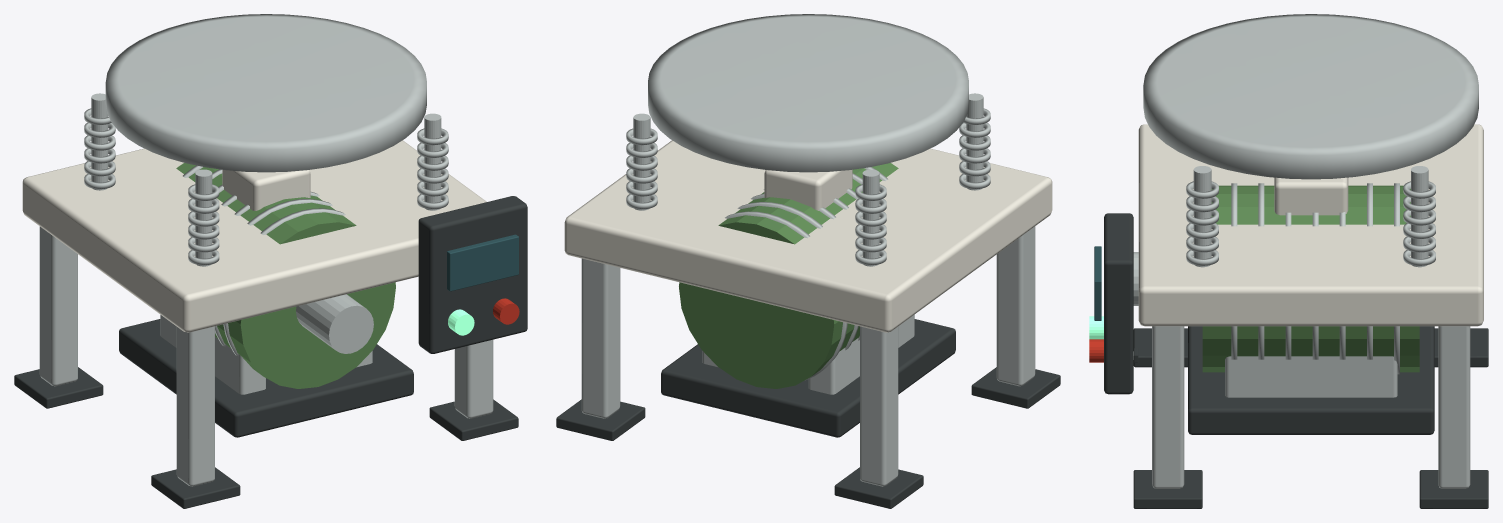
File: tea-garden-and-processing-house-tea-garden-and-process-a28fff95__30779.glb
3 renders of one model, left to right at view 1: azimuth 30°, elevation 25°; view 2: azimuth 150°, elevation 25°; view 3: azimuth 270°, elevation 25°, orthographic. The views are drawn at different scales.
Parts seen in each view (by area): view 1: tea-garden-and-processing-house-sieve-shaker; view 2: tea-garden-and-processing-house-sieve-shaker; view 3: tea-garden-and-processing-house-sieve-shaker.
Part boxes in pixels (x1,y1,x2,y2): tea-garden-and-processing-house-sieve-shaker: (14, 14, 527, 508); tea-garden-and-processing-house-sieve-shaker: (556, 14, 1060, 508); tea-garden-and-processing-house-sieve-shaker: (1089, 14, 1488, 508).
Size of the model in its own units: 0.82 by 0.765 by 0.81.
